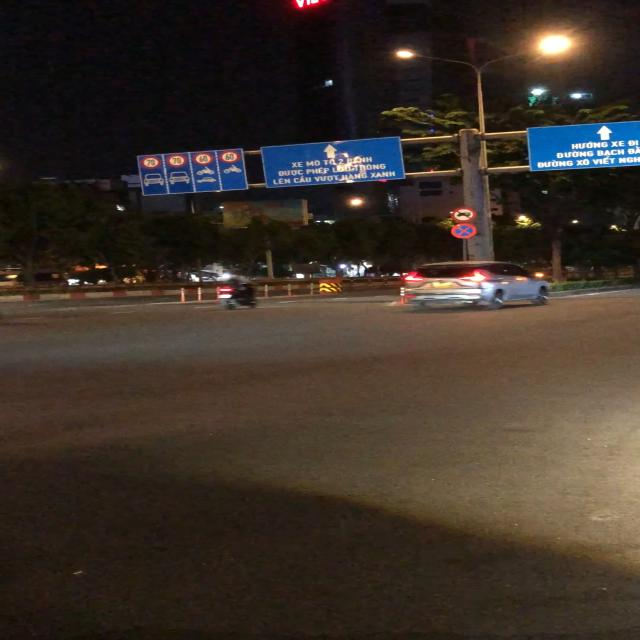Bien bao cam dung xe va do xe: (448, 223, 479, 239)
Bien bao cam xe oto tai: (447, 206, 479, 223)
Bien bao toc do toi da cho phep: (218, 150, 243, 163), (138, 156, 162, 169), (165, 154, 187, 168), (192, 151, 214, 165)
